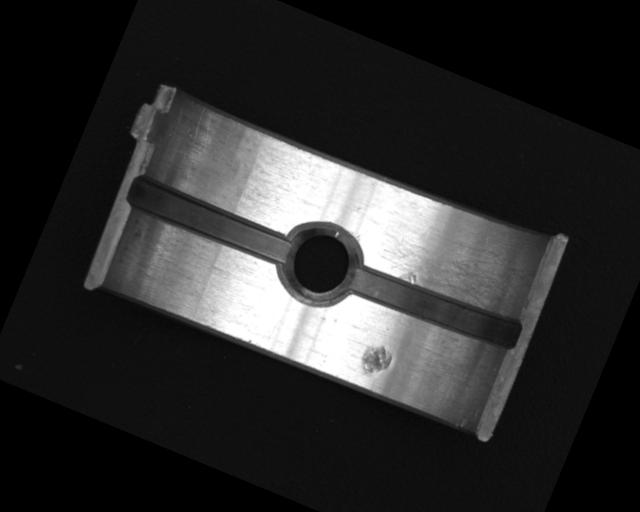bruise: (355, 339, 396, 384)
gap: (342, 251, 525, 360), (122, 172, 297, 270)
hole: (267, 209, 369, 317)
scratch: (357, 186, 533, 322)
